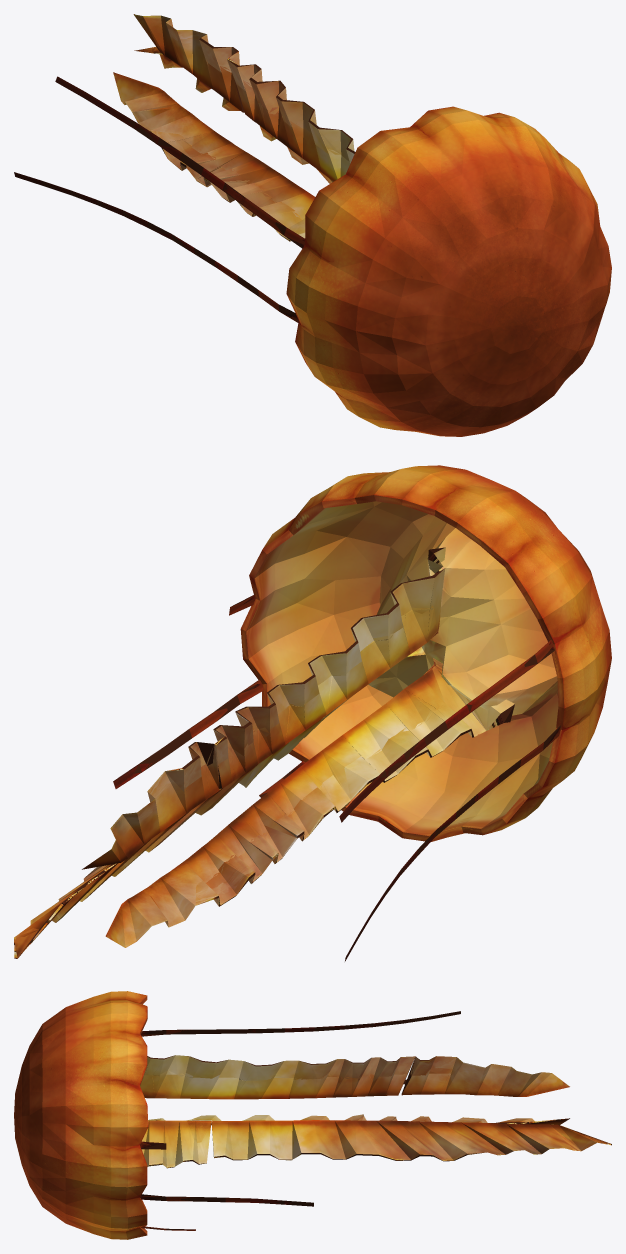
The model's file is fruit.obj.
The picture shows the model from 3 angles, top to bottom: view 1: azimuth 30°, elevation 25°; view 2: azimuth 150°, elevation 25°; view 3: azimuth 270°, elevation 25°; orthographic projection. The views are drawn at different scales.
Visible parts, largest first — view 1: Object.1, Object.2, Object.3; view 2: Object.1, Object.2, Object.3; view 3: Object.1, Object.3, Object.2.
Part boxes in pixels (bbox=[...]): Object.1: bbox=[14, 58, 611, 436]; Object.2: bbox=[133, 14, 244, 112]; Object.3: bbox=[134, 47, 333, 183]; Object.1: bbox=[105, 465, 611, 961]; Object.2: bbox=[82, 742, 219, 869]; Object.3: bbox=[14, 718, 322, 958]; Object.1: bbox=[14, 991, 569, 1239]; Object.3: bbox=[211, 1120, 611, 1161]; Object.2: bbox=[401, 1056, 569, 1096].
Size of the model in its own units: 50 by 44.61 by 107.
1 material, 1 textured.
